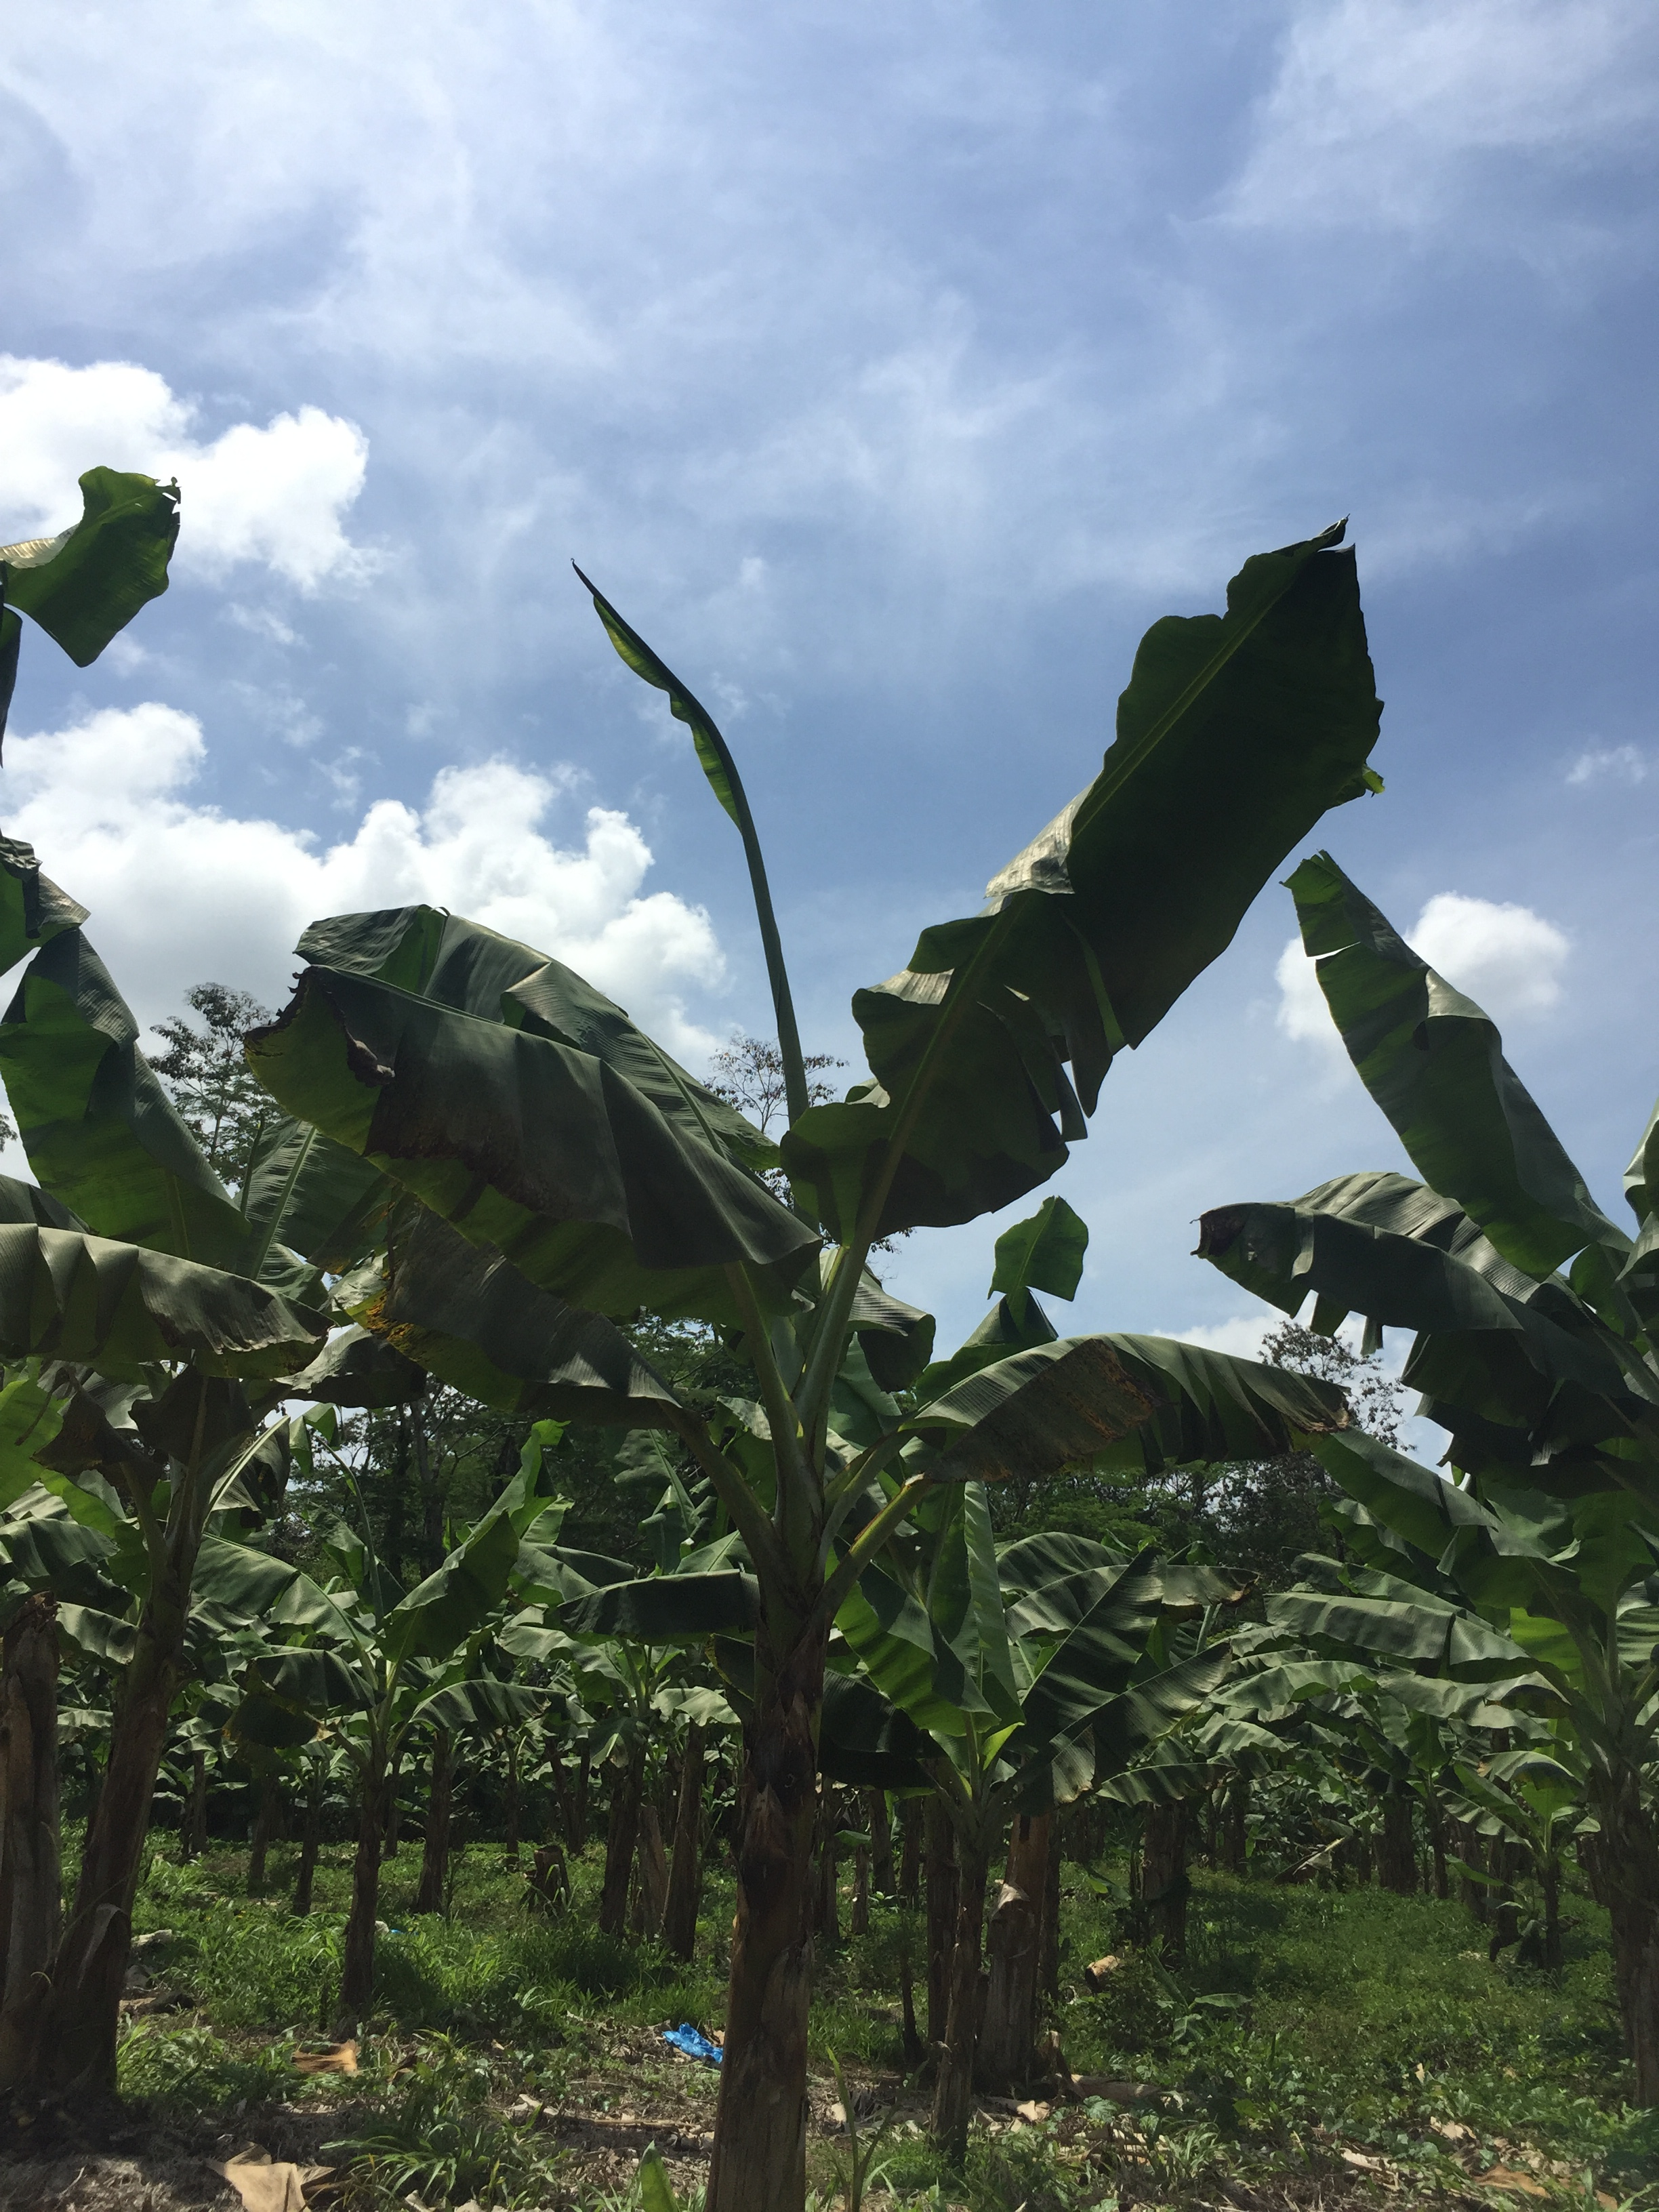candleleafs: (570, 559, 810, 1108), (312, 1435, 382, 1629)
